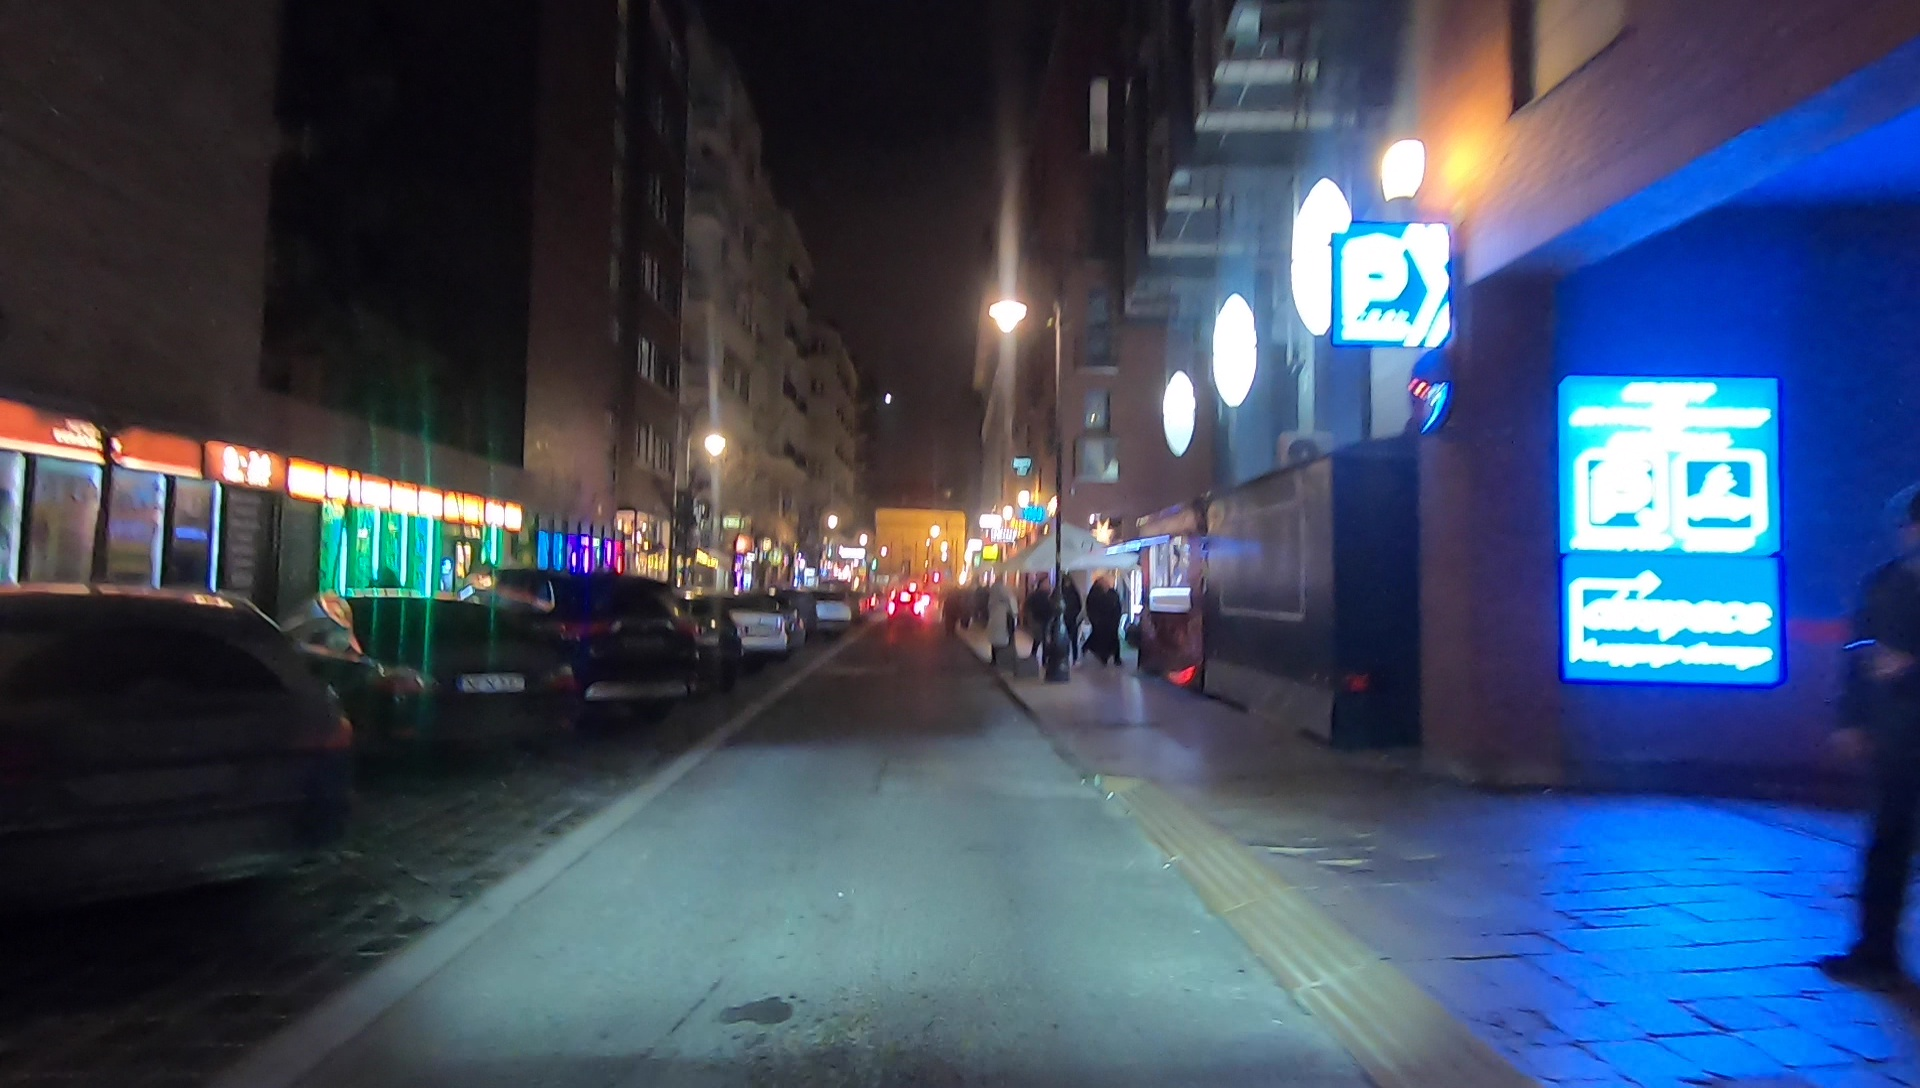person: (1088, 578, 1124, 667), (989, 580, 1018, 660), (1060, 572, 1081, 663), (1031, 576, 1054, 660)
